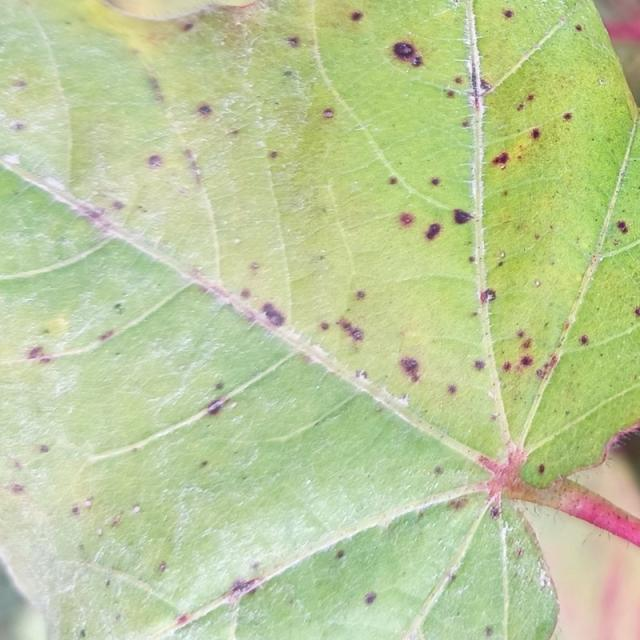Bacterial_Blight: (126, 128, 227, 189), (185, 574, 266, 626), (392, 203, 467, 249), (223, 293, 286, 335), (494, 126, 547, 170), (81, 498, 144, 533), (499, 331, 542, 379), (334, 308, 378, 354), (394, 207, 423, 237), (391, 40, 422, 65), (76, 202, 106, 223), (611, 219, 634, 246), (398, 356, 421, 382), (43, 316, 70, 337), (146, 76, 165, 104), (468, 71, 489, 96), (69, 497, 93, 518), (205, 396, 229, 416), (230, 578, 255, 596), (516, 93, 537, 112), (447, 496, 470, 511), (26, 346, 47, 362), (491, 151, 510, 168), (453, 209, 474, 224), (479, 288, 497, 304), (196, 103, 213, 118), (147, 154, 163, 168), (98, 329, 114, 341), (9, 483, 25, 495), (364, 591, 377, 605), (9, 121, 26, 131), (616, 220, 628, 234), (176, 613, 189, 625), (111, 200, 125, 211), (286, 36, 300, 47), (350, 10, 364, 21), (181, 21, 195, 32), (11, 80, 27, 89), (489, 506, 500, 519), (521, 338, 532, 350), (474, 359, 486, 370), (113, 302, 124, 314), (322, 108, 334, 119), (530, 128, 541, 139), (447, 384, 458, 395), (240, 288, 251, 299), (157, 561, 167, 573), (501, 361, 511, 372), (579, 334, 589, 345), (503, 9, 514, 19), (335, 549, 345, 560), (515, 547, 524, 559), (355, 370, 367, 379), (356, 290, 366, 300), (434, 465, 444, 475), (430, 177, 441, 186), (268, 150, 279, 159), (39, 444, 50, 453), (485, 626, 494, 637), (562, 112, 572, 121), (71, 505, 80, 515), (250, 561, 260, 570), (388, 176, 397, 185), (320, 321, 329, 330), (199, 460, 208, 469), (229, 128, 239, 136), (563, 321, 571, 331), (214, 382, 224, 390), (537, 464, 545, 474), (250, 262, 260, 270), (517, 330, 525, 339), (446, 90, 455, 98), (462, 119, 470, 128), (454, 76, 463, 84), (79, 628, 87, 637), (283, 70, 293, 77), (527, 93, 535, 101), (575, 24, 583, 32), (613, 239, 620, 246), (565, 409, 571, 416), (636, 307, 640, 317)
Cotton: (0, 0, 639, 639)
